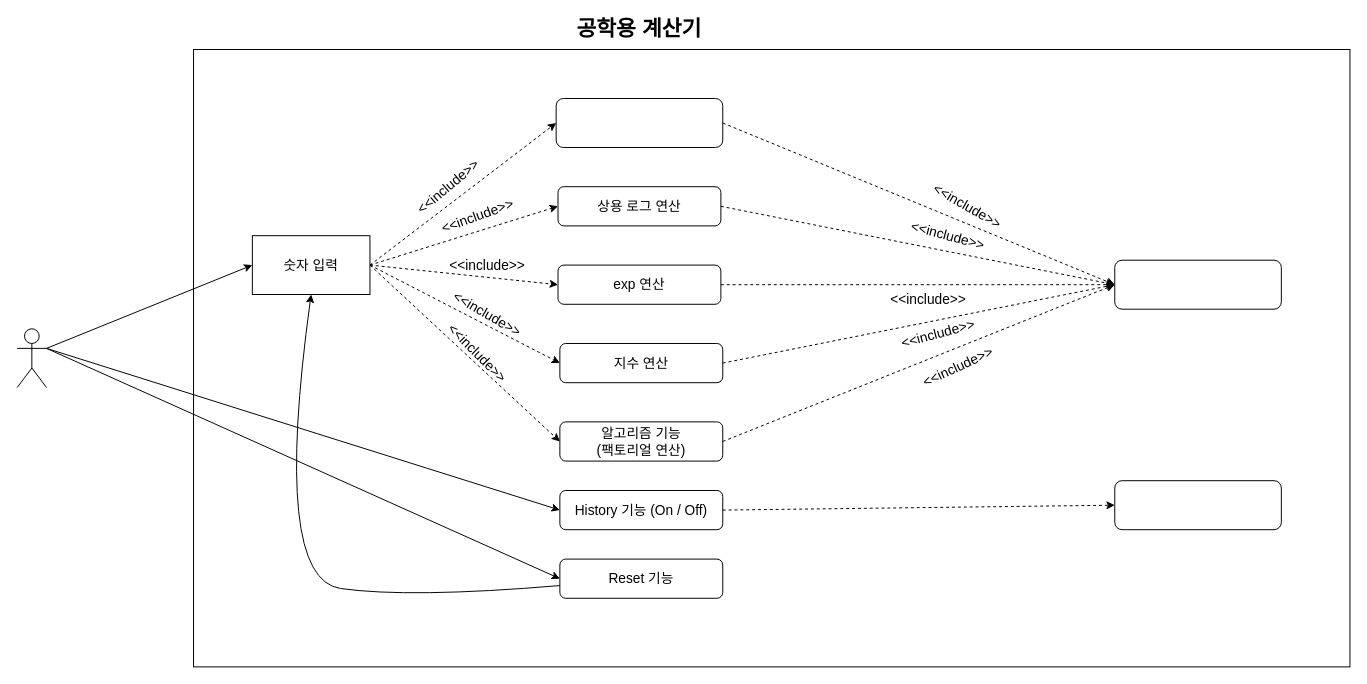
This 1367x684 diagram has some shape labels left out. Here are the shapes that lost their labels. From the top down, the centre of each, then its label:
(639,122): 사칙연산 ( +, -, *, / )
(1197,284): 연산 결과 출력
(31,358): User
(1197,505): 이전 연산 결과 전체 출력
